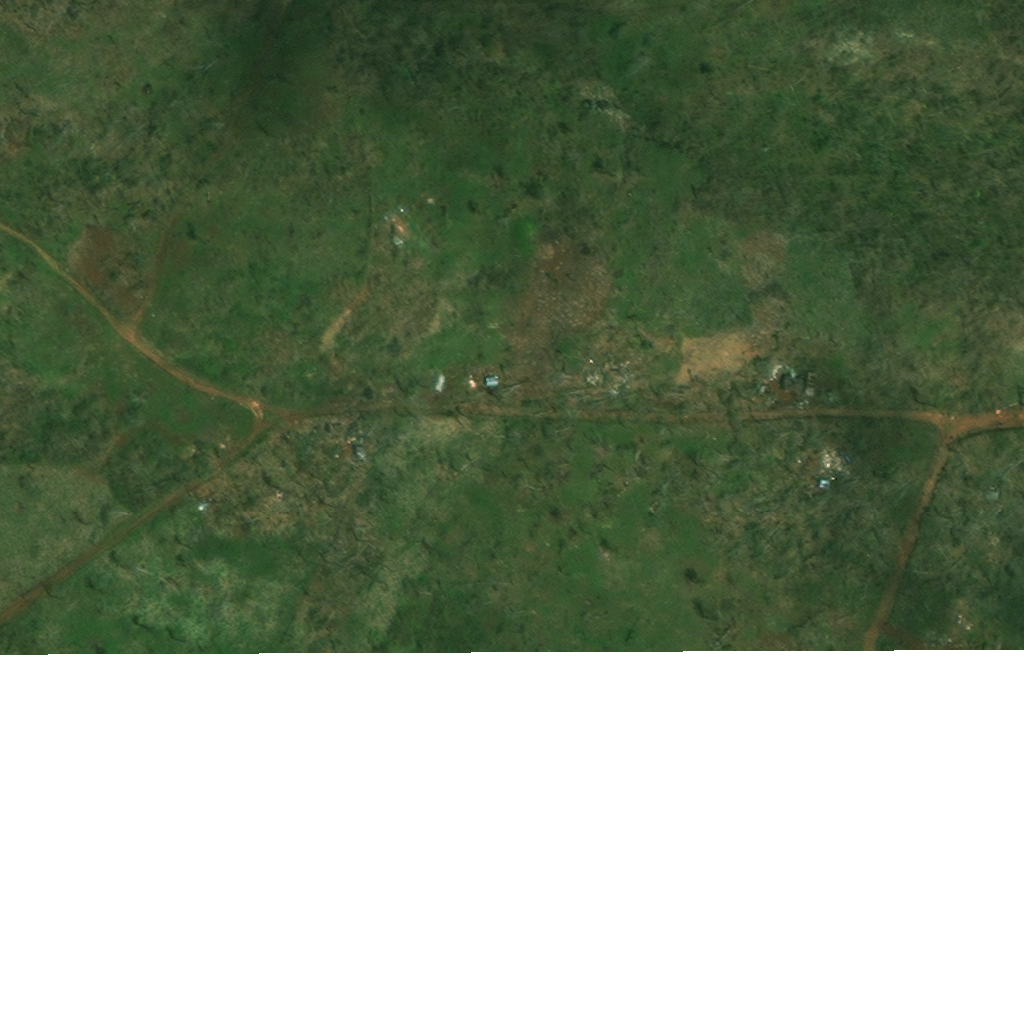destroyed: (373, 205, 396, 230), (827, 446, 845, 468), (610, 361, 631, 379), (332, 423, 358, 437)
minor_damage: (795, 369, 812, 395), (824, 389, 832, 400)
unclassified: (280, 483, 301, 504), (267, 101, 283, 116), (997, 485, 1011, 500)
